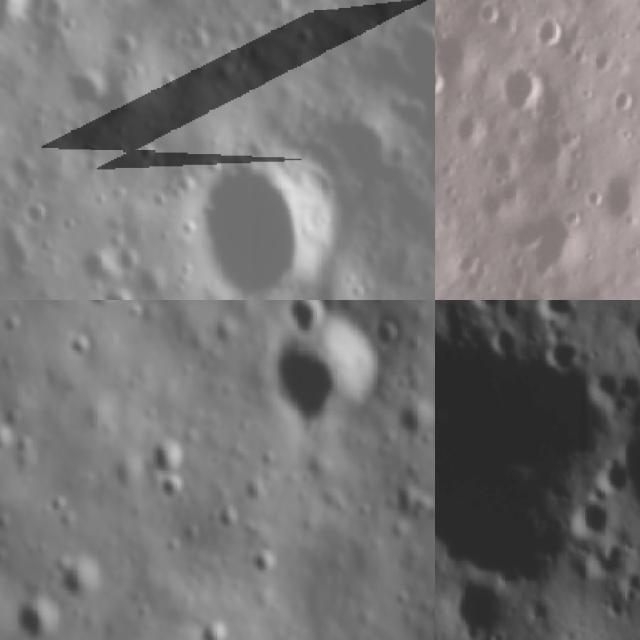crater: (181, 141, 344, 300), (262, 312, 391, 434), (500, 205, 584, 282), (386, 23, 435, 154), (443, 571, 515, 640), (494, 59, 554, 119), (52, 550, 112, 608), (380, 476, 435, 538), (594, 164, 640, 235), (139, 426, 198, 481), (8, 585, 66, 640), (56, 63, 110, 119), (276, 300, 333, 346), (140, 466, 194, 510), (568, 495, 618, 541), (393, 394, 435, 446), (538, 328, 585, 371), (59, 325, 101, 371), (481, 318, 522, 361), (240, 542, 281, 584), (524, 10, 566, 48), (75, 244, 112, 287), (18, 198, 58, 236), (189, 608, 236, 640), (100, 29, 140, 64), (528, 300, 579, 326), (109, 245, 146, 280), (467, 0, 501, 33), (574, 182, 605, 215), (79, 300, 124, 322), (0, 414, 18, 463), (1, 310, 25, 342), (407, 0, 435, 27), (92, 285, 139, 300), (155, 70, 179, 96), (435, 62, 449, 102), (470, 300, 510, 313)
